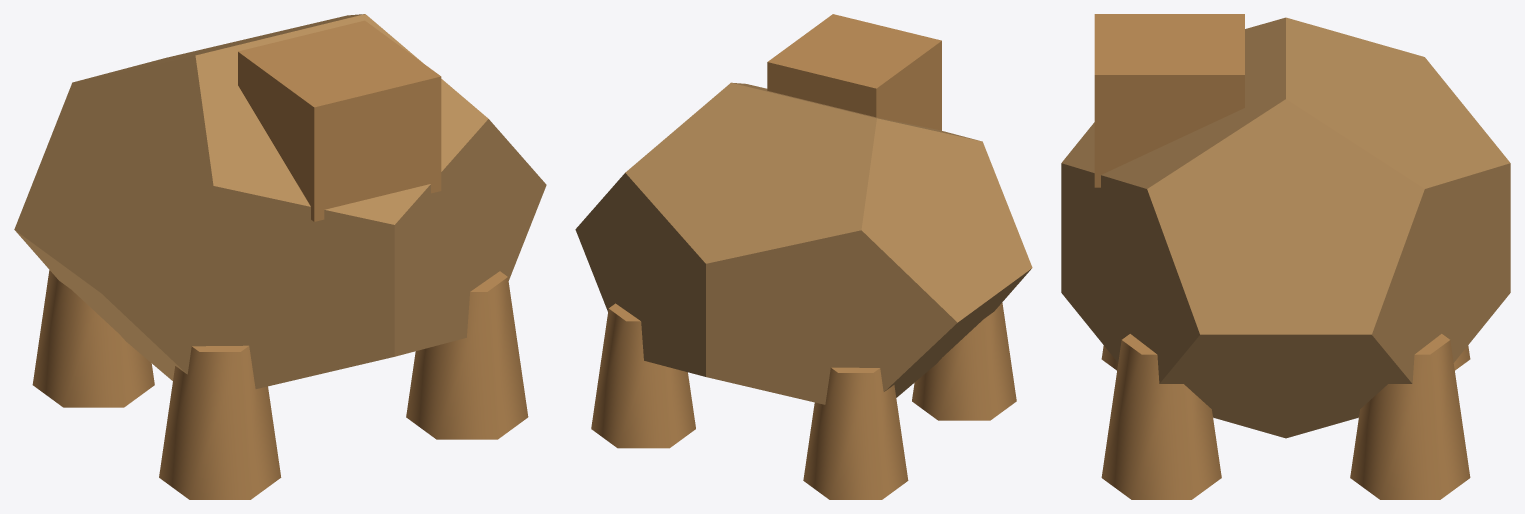
Rendered from heavy_rock_beast.glb.
The picture shows the model from 3 angles, left to right: view 1: azimuth 30°, elevation 25°; view 2: azimuth 150°, elevation 25°; view 3: azimuth 270°, elevation 25°; orthographic projection. The views are drawn at different scales.
Parts seen in each view (by area): view 1: body, head, leg_1, leg_0, leg_3; view 2: body, head, leg_3, leg_2, leg_1; view 3: body, head, leg_0, leg_2.
Boxes of the visible parts, box(x1,y1,x2,y2) form: body: box(14, 14, 546, 388); head: box(238, 20, 441, 221); leg_1: box(159, 345, 281, 499); leg_0: box(406, 271, 528, 439); leg_3: box(32, 270, 154, 407); body: box(575, 82, 1032, 404); head: box(767, 14, 941, 130); leg_3: box(803, 367, 908, 499); leg_2: box(591, 303, 695, 448); leg_1: box(912, 302, 1016, 420); body: box(1061, 17, 1510, 438); head: box(1094, 14, 1244, 187); leg_0: box(1101, 334, 1221, 499); leg_2: box(1350, 334, 1470, 499).
Bounding box in the file's own units: 2.98 × 2.43 × 2.65.
